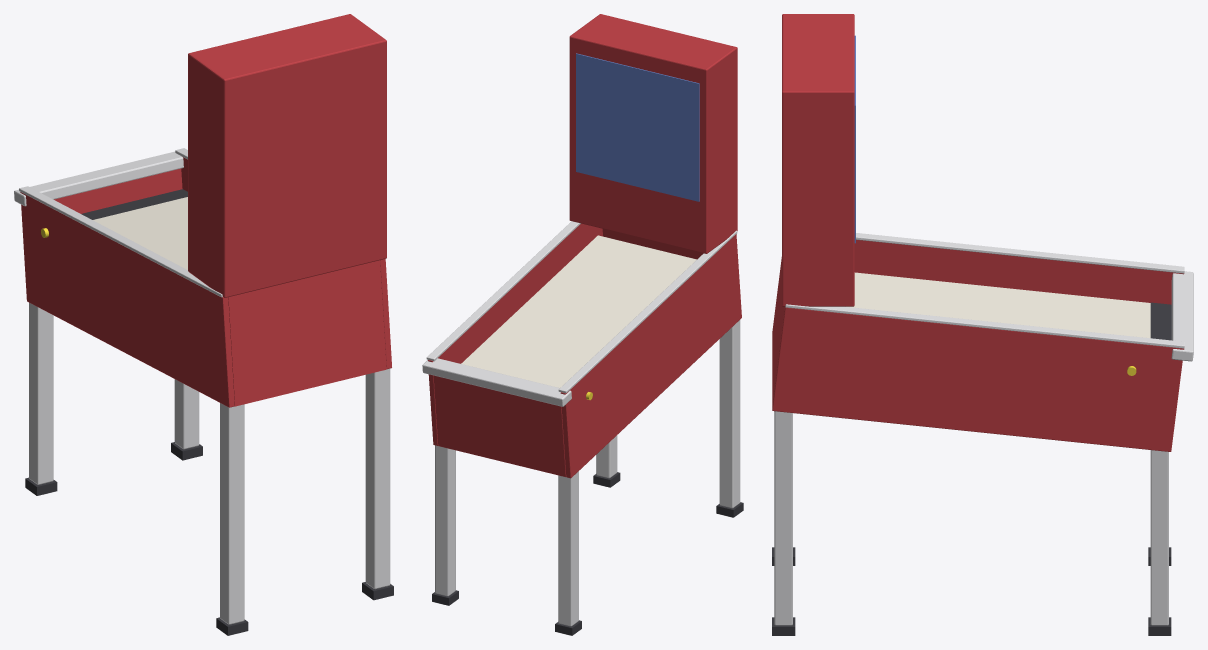
The model's file is PinballTable.fbx.
3 views of the same model, side by side, from view 1: azimuth 30°, elevation 25°; view 2: azimuth 150°, elevation 25°; view 3: azimuth 270°, elevation 25° (orthographic). The views are drawn at different scales.
Parts seen in each view (by area): view 1: Backbox_Body, Side_Right, Back_Wall, Leg_Left_Back, Leg_Right_Back, Leg_Right_Front, Playfield, Lockdown_Bar, Front_Wall, Side_Rail_Right, Leg_Left_Front, Front_Deck (+1 smaller); view 2: Backbox_Body, Playfield, Side_Right, Backglass, Front_Wall, Side_Left, Leg_Right_Back, Leg_Right_Front, Leg_Left_Front, Lockdown_Bar, Side_Rail_Right, Side_Rail_Left (+2 smaller); view 3: Side_Left, Backbox_Body, Side_Right, Playfield, Leg_Left_Back, Leg_Left_Front, Side_Rail_Left, Side_Rail_Right, Lockdown_Bar, Back_Wall, Front_Deck.
Boxes of the visible parts, bbox=[...] form: Backbox_Body: bbox=[188, 14, 386, 297]; Side_Right: bbox=[20, 192, 234, 407]; Back_Wall: bbox=[228, 260, 386, 406]; Leg_Left_Back: bbox=[365, 368, 390, 589]; Leg_Right_Back: bbox=[220, 403, 244, 624]; Leg_Right_Front: bbox=[29, 302, 53, 484]; Playfield: bbox=[93, 197, 187, 269]; Lockdown_Bar: bbox=[14, 151, 183, 206]; Front_Wall: bbox=[54, 168, 182, 213]; Side_Rail_Right: bbox=[19, 186, 222, 297]; Leg_Left_Front: bbox=[174, 379, 199, 449]; Front_Deck: bbox=[81, 189, 187, 219]; Backbox_Body: bbox=[569, 14, 737, 253]; Playfield: bbox=[461, 235, 696, 387]; Side_Right: bbox=[560, 234, 741, 478]; Backglass: bbox=[576, 53, 699, 201]; Front_Wall: bbox=[433, 375, 566, 476]; Side_Left: bbox=[428, 223, 602, 445]; Leg_Right_Back: bbox=[719, 320, 740, 508]; Leg_Right_Front: bbox=[558, 471, 578, 626]; Leg_Left_Front: bbox=[435, 445, 455, 596]; Lockdown_Bar: bbox=[422, 358, 571, 406]; Side_Rail_Right: bbox=[558, 230, 737, 393]; Side_Rail_Left: bbox=[426, 221, 580, 361]; Side_Left: bbox=[772, 307, 1184, 451]; Backbox_Body: bbox=[782, 14, 854, 306]; Side_Right: bbox=[772, 240, 1184, 332]; Playfield: bbox=[846, 272, 1150, 338]; Leg_Left_Back: bbox=[774, 411, 792, 625]; Leg_Left_Front: bbox=[1150, 450, 1168, 625]; Side_Rail_Left: bbox=[785, 304, 1184, 348]; Side_Rail_Right: bbox=[856, 233, 1184, 273]; Lockdown_Bar: bbox=[1171, 271, 1193, 361]; Back_Wall: bbox=[772, 259, 784, 406]; Front_Deck: bbox=[1150, 302, 1171, 340].
Bounding box in the file's own units: 58.6 × 182 × 128.
